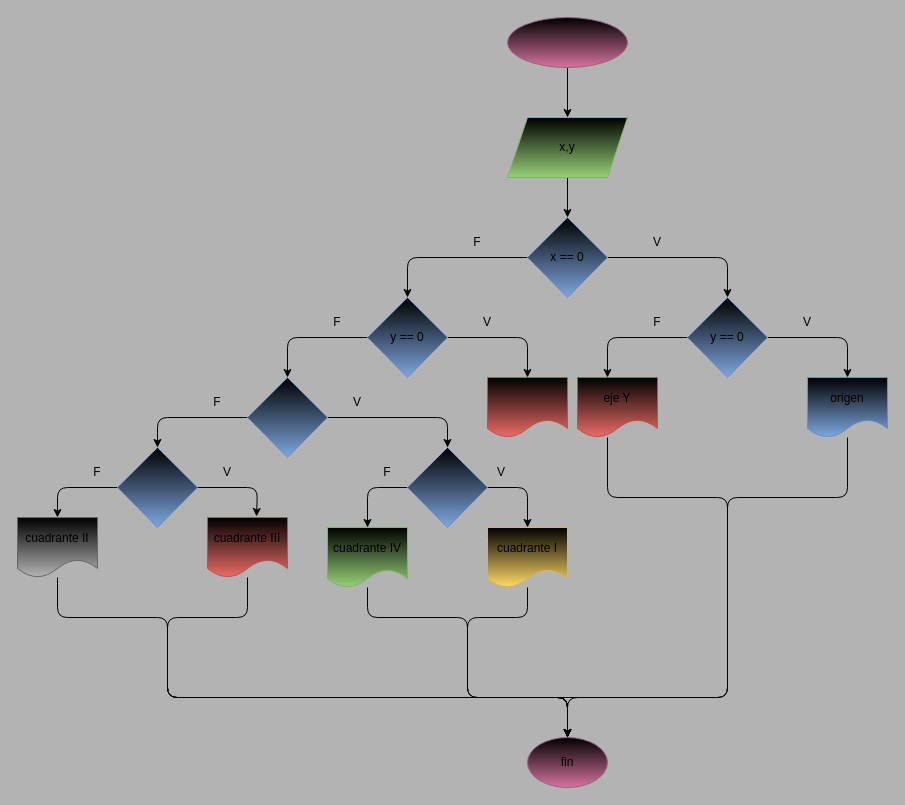
Some shapes in this 905 by 805 pixel diagram are drawn without their labels. The box of each missing label's shape, as (x1, y1, x2, y2) in pixels:
eje X: (486, 376, 568, 438)
inicio: (506, 16, 628, 68)
x > 0: (246, 376, 328, 458)
y < 0: (116, 446, 198, 528)
y > 0: (406, 446, 488, 528)
